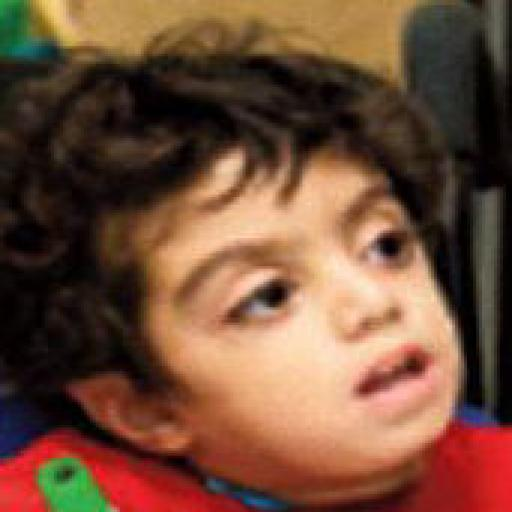Autism: (55, 105, 489, 470)
